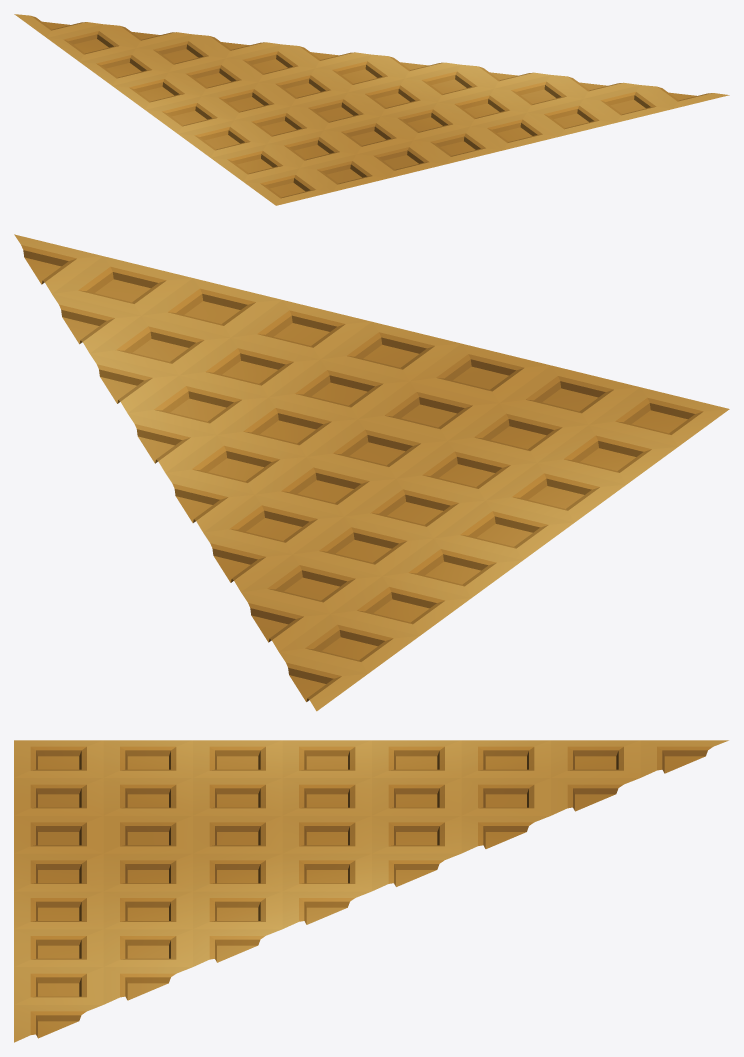
The model's file is GroundGoldTriangle.glb.
3 renders of one model, top to bottom at view 1: azimuth 30°, elevation 25°; view 2: azimuth 150°, elevation 25°; view 3: azimuth 270°, elevation 25°, orthographic. The views are drawn at different scales.
Parts seen in each view (by area): view 1: GroundGoldTriangle; view 2: GroundGoldTriangle; view 3: GroundGoldTriangle.
Boxes of the visible parts, <box> form: GroundGoldTriangle: <box>14,14,729,205</box>; GroundGoldTriangle: <box>14,234,729,711</box>; GroundGoldTriangle: <box>14,740,728,1042</box>.
Size of the model in its own units: 16 by 0.16 by 16.
1 material, 1 textured.
